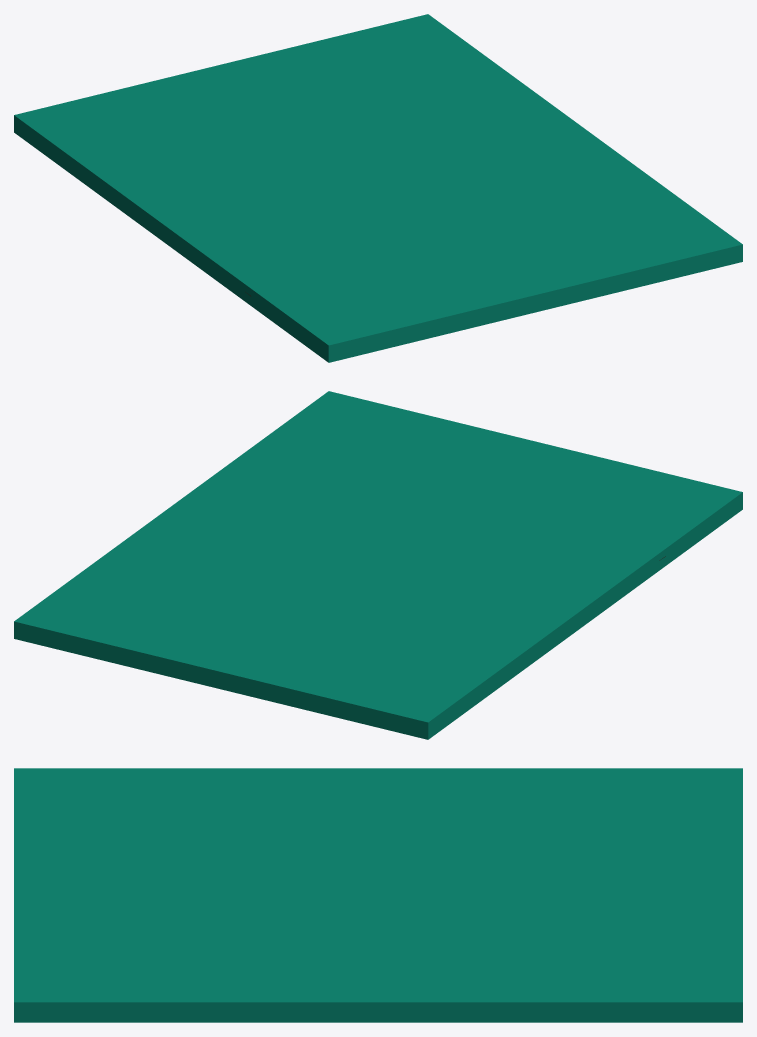
The model's file is lavaglow.DAE.
3 views of the same model, one above another, from view 1: azimuth 30°, elevation 25°; view 2: azimuth 150°, elevation 25°; view 3: azimuth 270°, elevation 25° (orthographic). The views are drawn at different scales.
Parts seen in each view (by area): view 1: bounds; view 2: bounds; view 3: bounds.
Part boxes in pixels (x1,y1,x2,y2): bounds: (14,14,742,362); bounds: (14,391,742,739); bounds: (14,768,742,1022).
Size of the model in its own units: 37.11 by 48.8 by 1.49.
